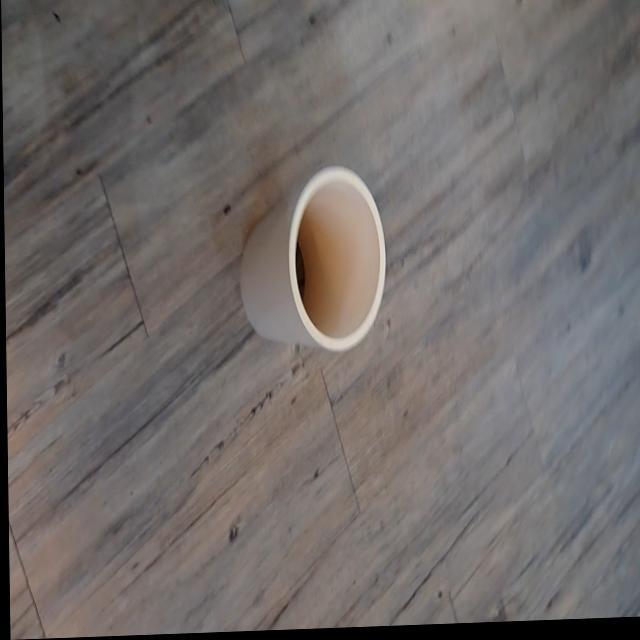CORAL: (205, 116, 401, 394)
